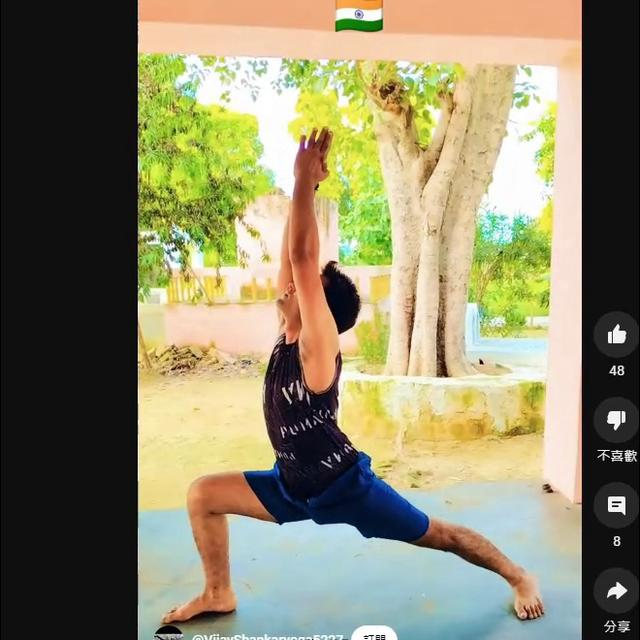Warrior_I: (154, 113, 554, 624)
